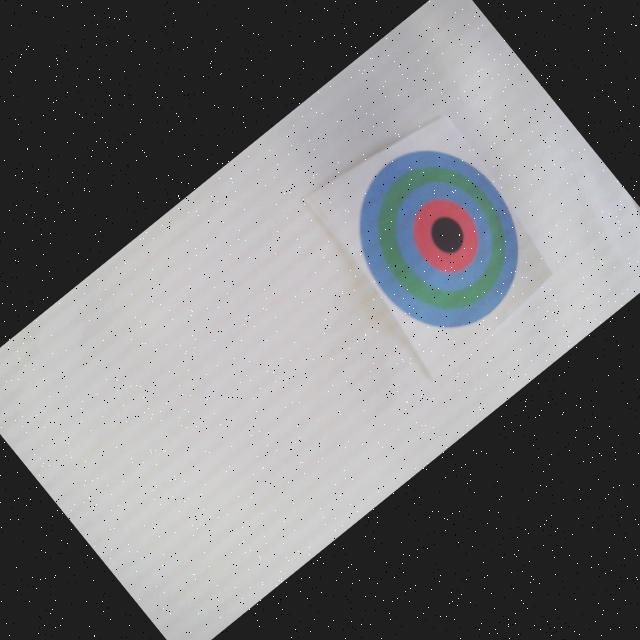COGNITIVE: (322, 118, 556, 357)
